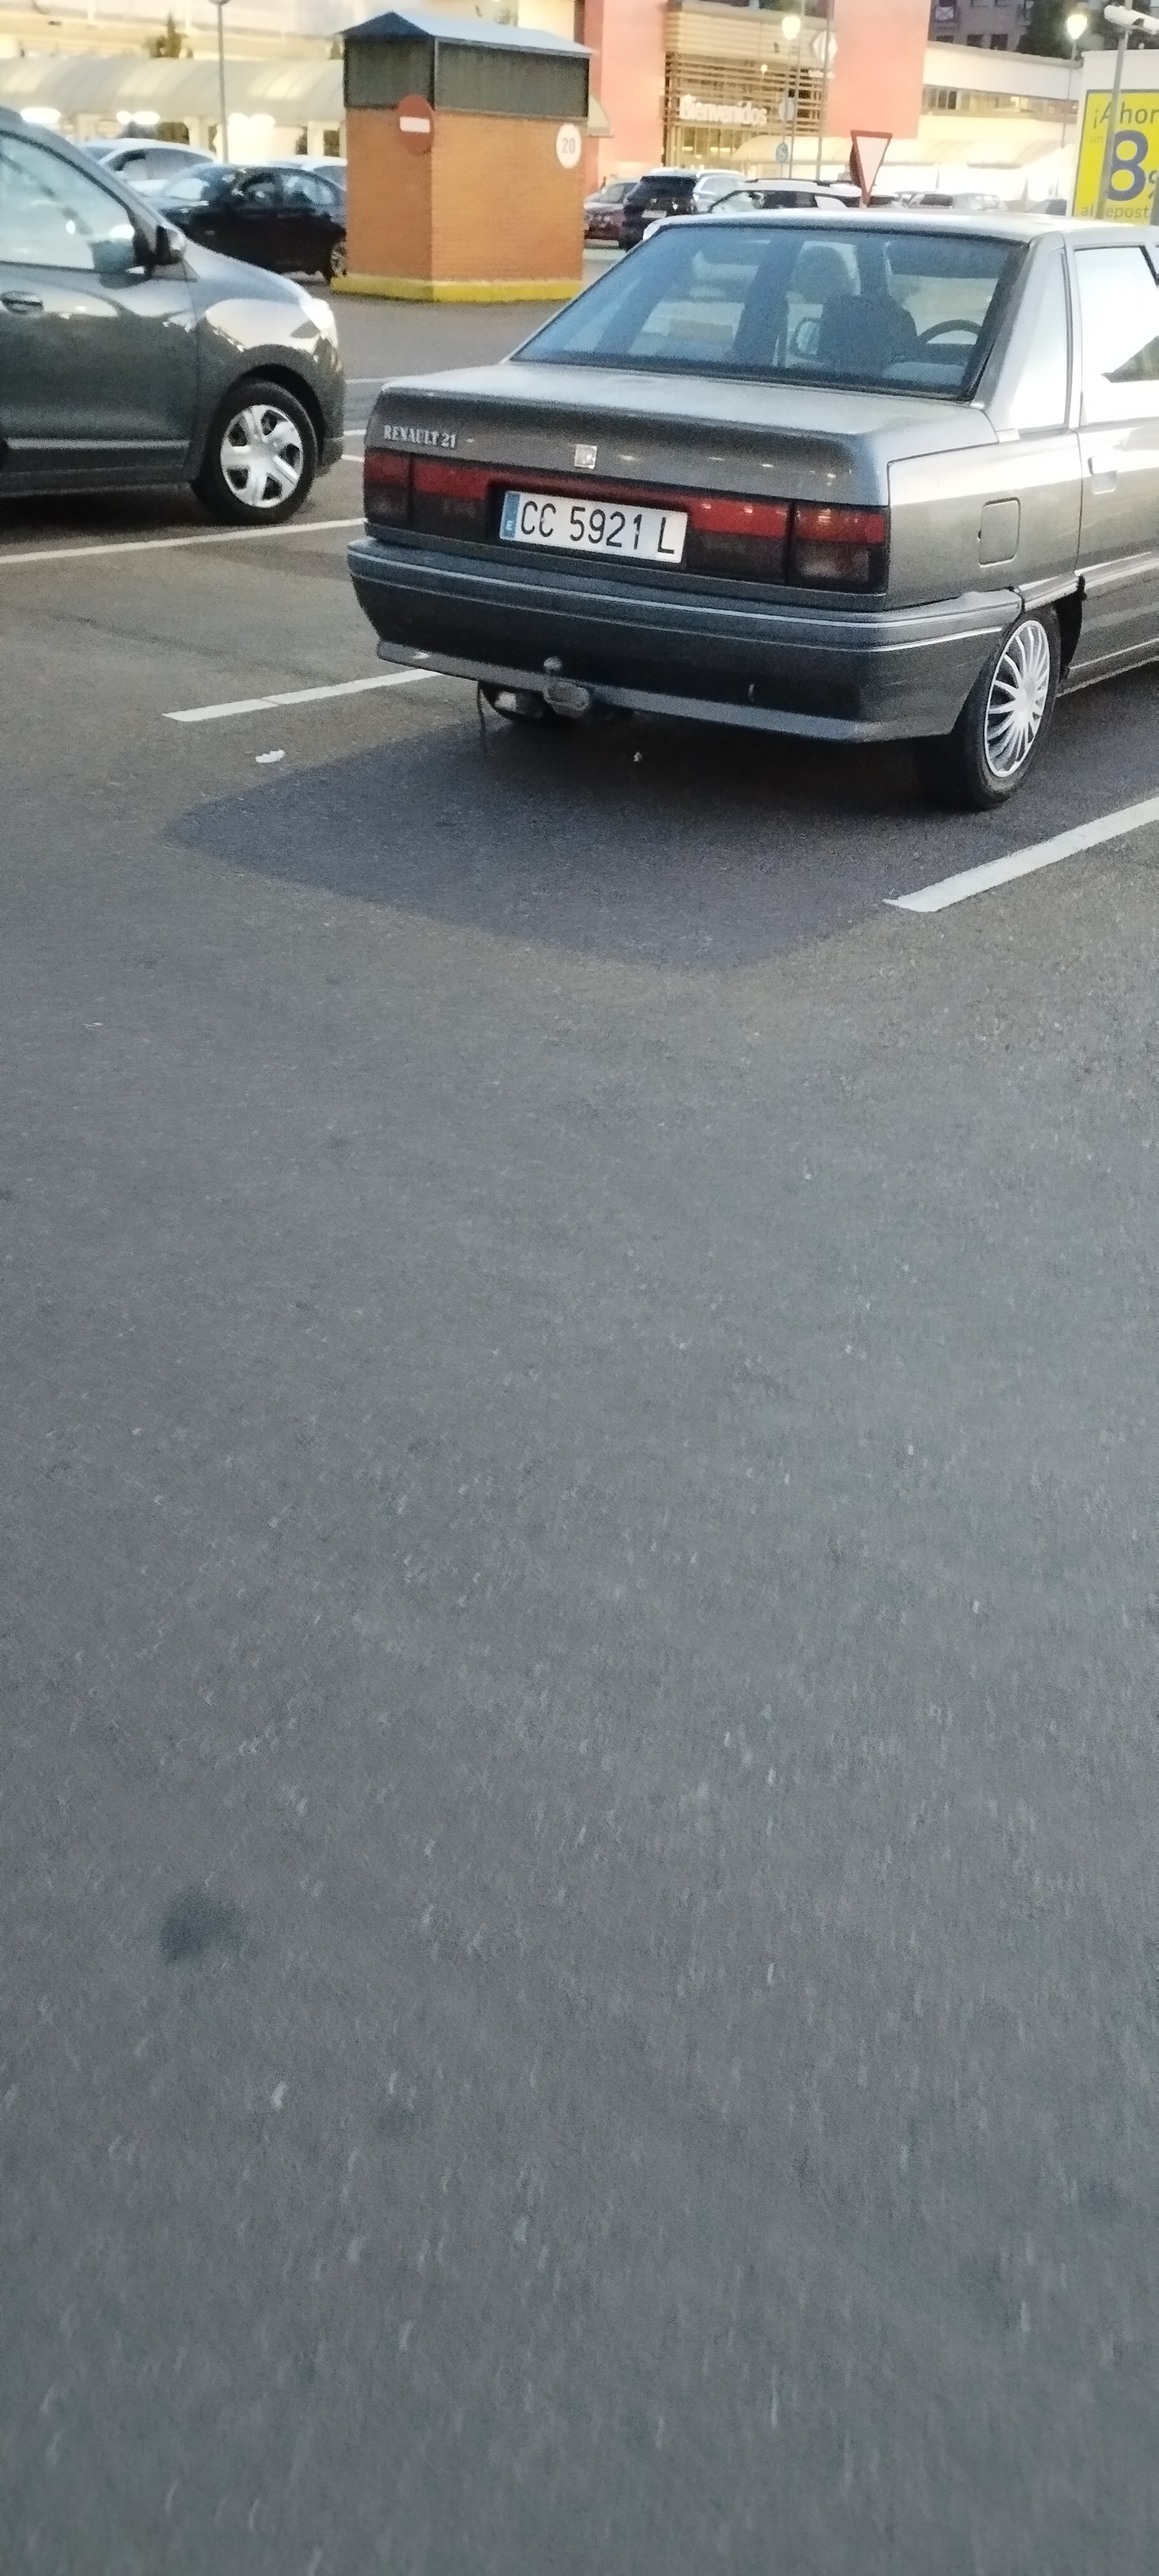Car: (352, 227, 1150, 802)
Plate: (501, 486, 684, 546)
